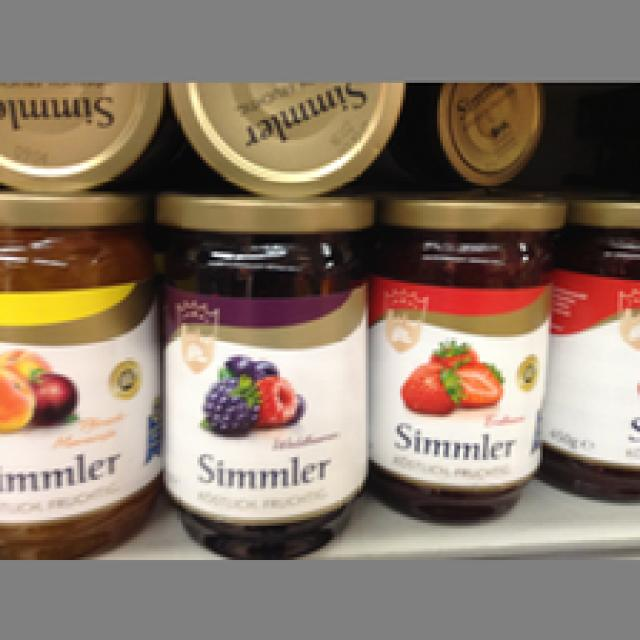groceries: (152, 192, 377, 557), (366, 191, 566, 523), (0, 189, 160, 554), (540, 191, 637, 503)
